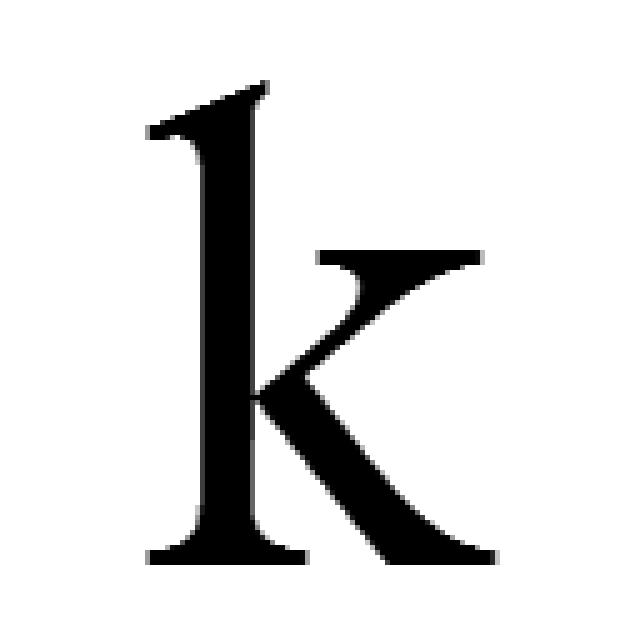K: (155, 99, 514, 579)
